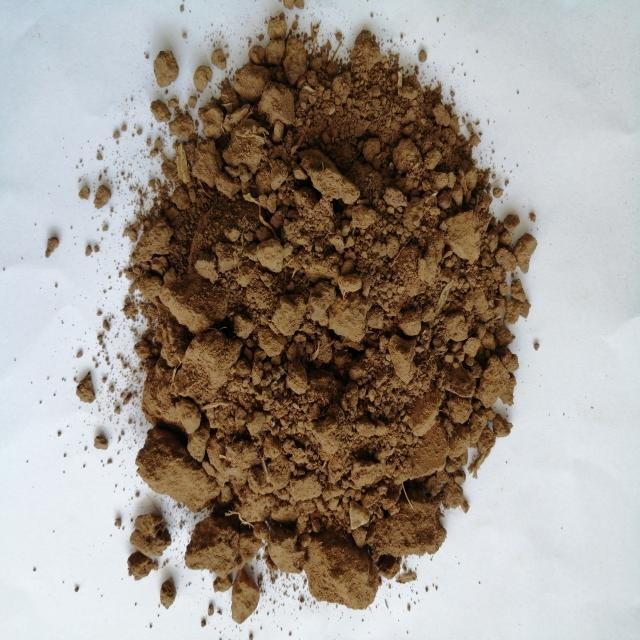soil: (186, 146, 446, 480)
